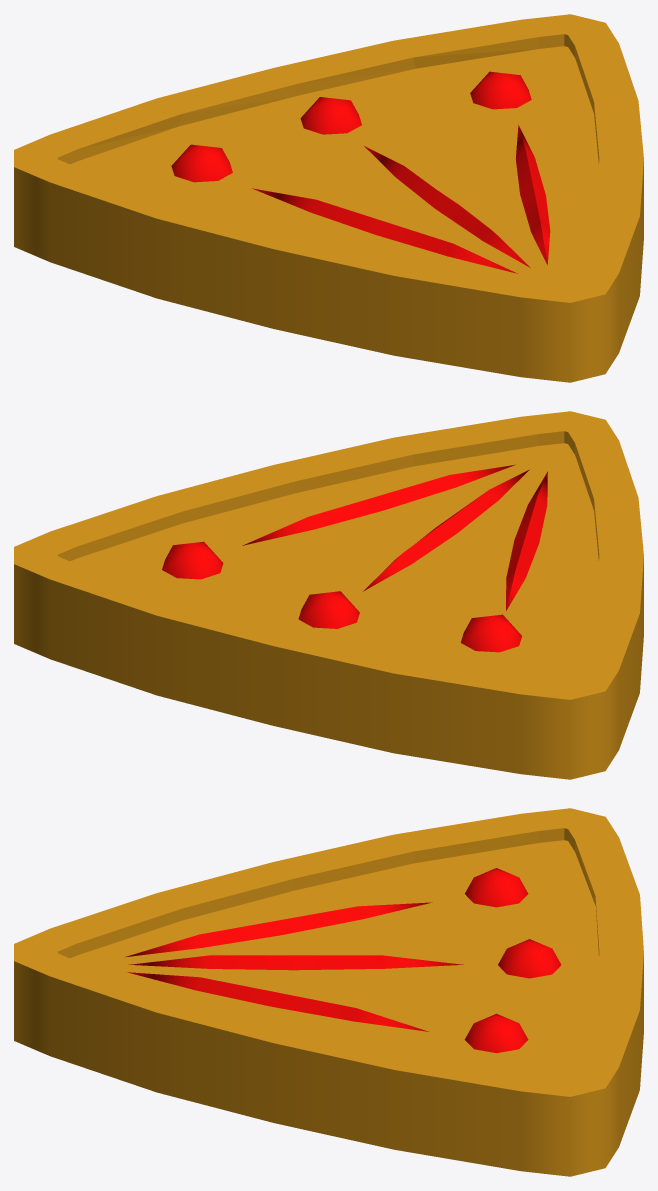
Rendered from Powerup_Scattershot.FBX.
3 renders of one model, top to bottom at view 1: azimuth 30°, elevation 25°; view 2: azimuth 150°, elevation 25°; view 3: azimuth 270°, elevation 25°, orthographic.
Visible parts, largest first — view 1: NGon001; view 2: NGon001; view 3: NGon001.
Boxes of the visible parts, <box> form: NGon001: <box>14,14,643,382</box>; NGon001: <box>14,411,643,779</box>; NGon001: <box>14,808,643,1176</box>.
Size of the model in its own units: 155 by 22.87 by 143.
